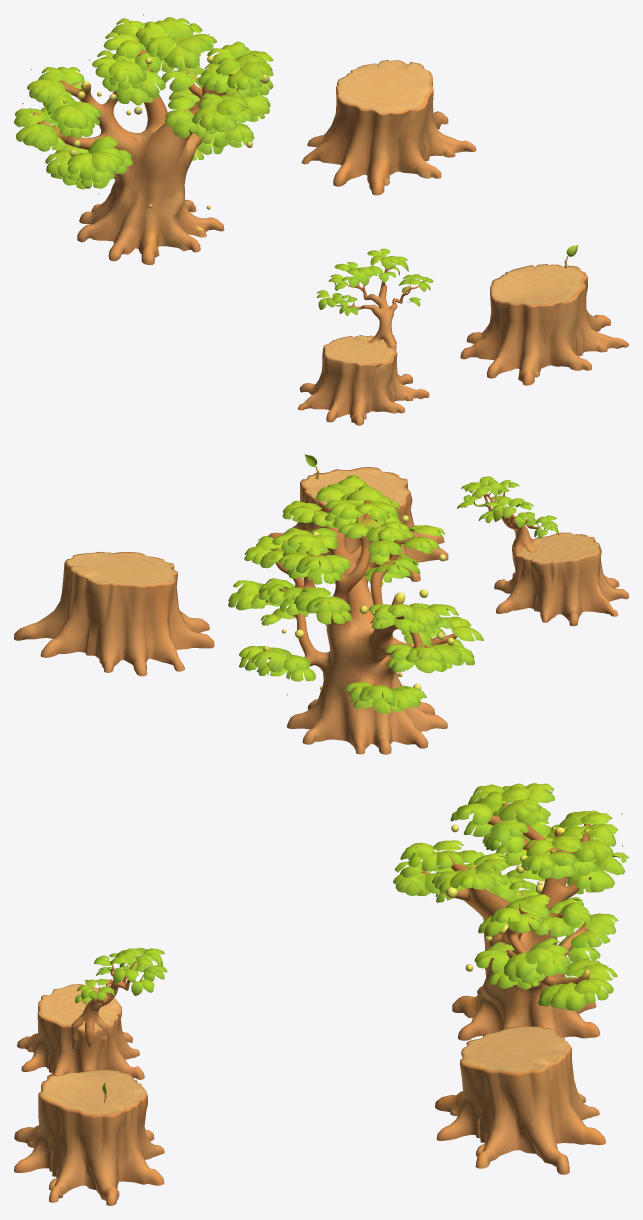
Rendered from sacred_stump.glb.
3 renders of one model, top to bottom at view 1: azimuth 30°, elevation 25°; view 2: azimuth 150°, elevation 25°; view 3: azimuth 270°, elevation 25°, orthographic. The views are drawn at different scales.
Parts seen in each view (by area): view 1: tripo_node_01b45ea9-552d-4d46-8d9a-852fe10fc269; view 2: tripo_node_01b45ea9-552d-4d46-8d9a-852fe10fc269; view 3: tripo_node_01b45ea9-552d-4d46-8d9a-852fe10fc269.
Part boxes in pixels (bbox=[...]): tripo_node_01b45ea9-552d-4d46-8d9a-852fe10fc269: bbox=[14, 14, 628, 425]; tripo_node_01b45ea9-552d-4d46-8d9a-852fe10fc269: bbox=[14, 454, 628, 754]; tripo_node_01b45ea9-552d-4d46-8d9a-852fe10fc269: bbox=[14, 783, 628, 1205].
Bounding box in the file's own units: 0.9019 × 0.4795 × 0.9995.
1 material, 1 textured.
